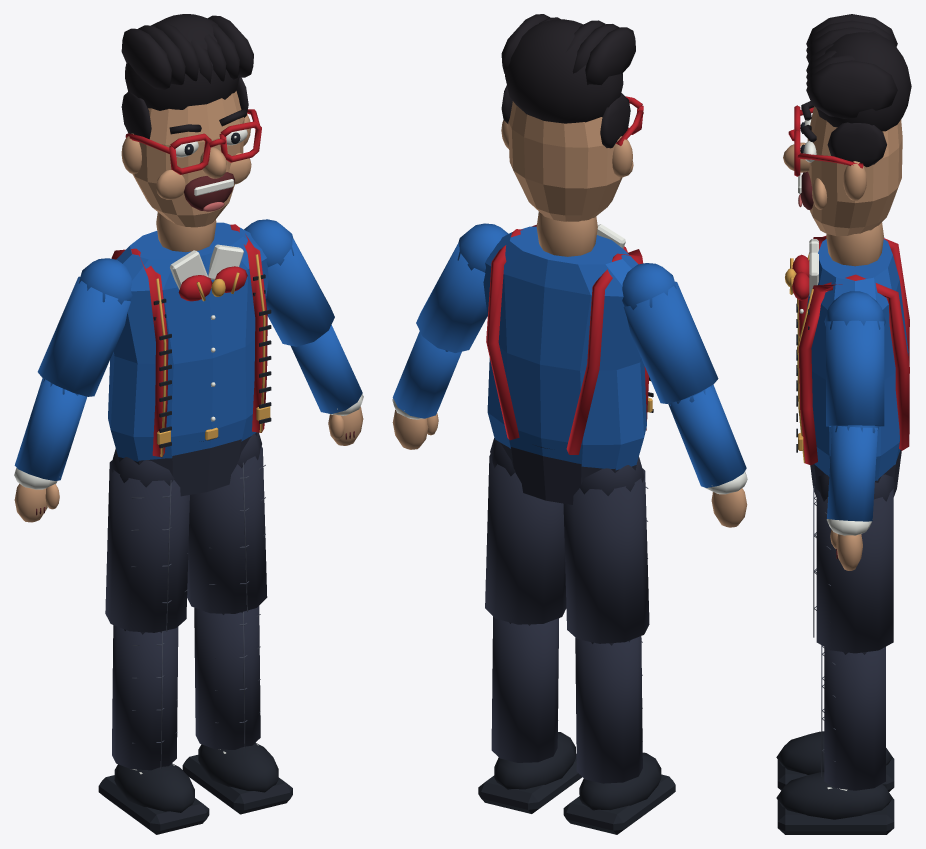
The model's file is paypay-daisuke-for-mixamo.fbx.
3 renders of one model, left to right at view 1: azimuth 30°, elevation 25°; view 2: azimuth 150°, elevation 25°; view 3: azimuth 270°, elevation 25°, orthographic. The views are drawn at different scales.
Parts seen in each view (by area): view 1: Daisuke_Character; view 2: Daisuke_Character; view 3: Daisuke_Character.
Part boxes in pixels (box(x1,y1,x2,y2)): Daisuke_Character: box(14, 14, 363, 834); Daisuke_Character: box(392, 14, 747, 834); Daisuke_Character: box(776, 14, 911, 834).
Bounding box in the file's own units: 88.79 × 190 × 30.4.
